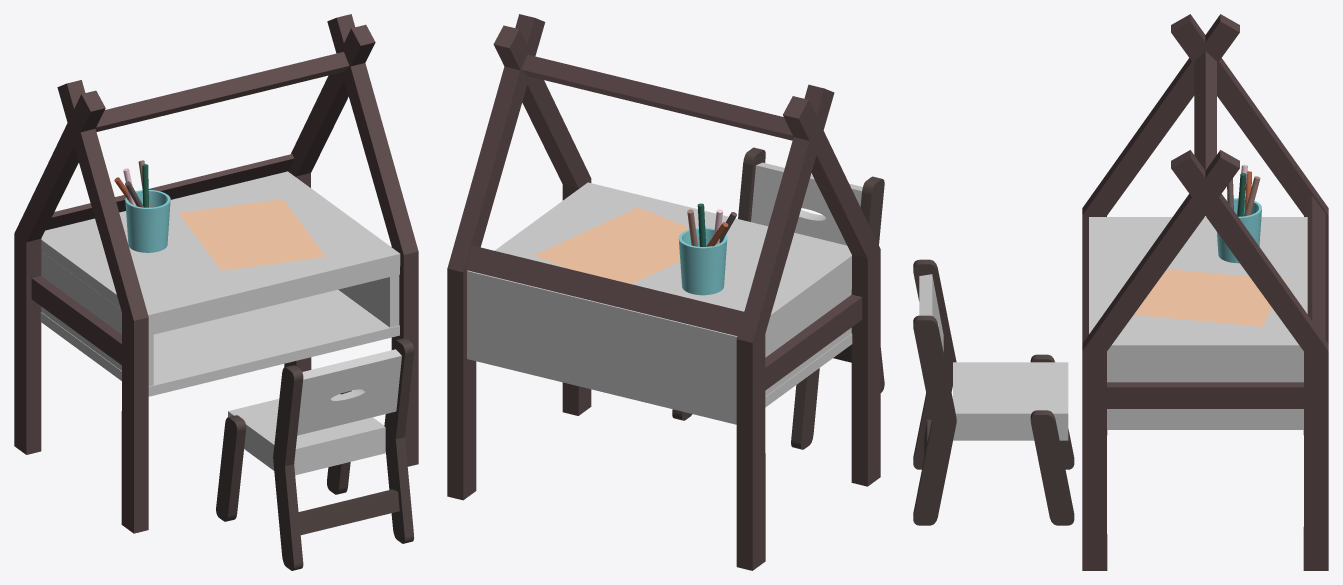
The model's file is Furn2_worktable_color2_joined.fbx.
The picture shows the model from 3 angles, left to right: view 1: azimuth 30°, elevation 25°; view 2: azimuth 150°, elevation 25°; view 3: azimuth 270°, elevation 25°; orthographic projection. The views are drawn at different scales.
Parts seen in each view (by area): view 1: Куб.006; view 2: Куб.006; view 3: Куб.006.
Part boxes in pixels (box(x1,y1,x2,y2)): Куб.006: box(14, 14, 418, 570); Куб.006: box(447, 14, 884, 570); Куб.006: box(913, 14, 1328, 570).
Size of the model in its own units: 204 by 274 by 249.
